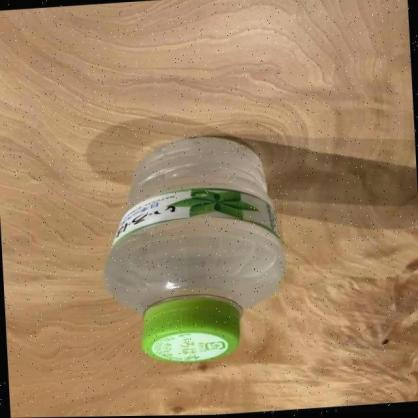bottle: (102, 135, 284, 365)
cap: (142, 294, 241, 362)
label: (110, 188, 280, 252)
